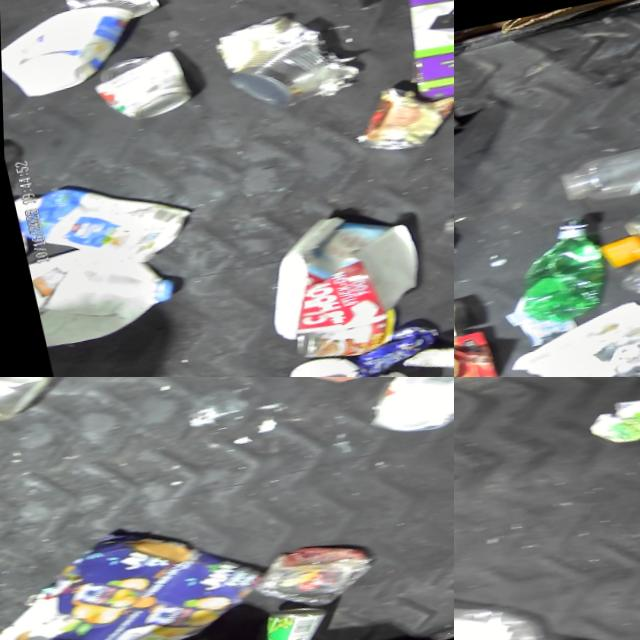can: (218, 18, 364, 118), (345, 74, 454, 159), (86, 47, 193, 129), (288, 308, 402, 368), (343, 320, 441, 377), (245, 599, 333, 640), (581, 394, 640, 451), (59, 0, 163, 30)
milk_jug: (10, 161, 199, 284), (24, 230, 182, 350)
plastic_bottle: (454, 572, 595, 640)
